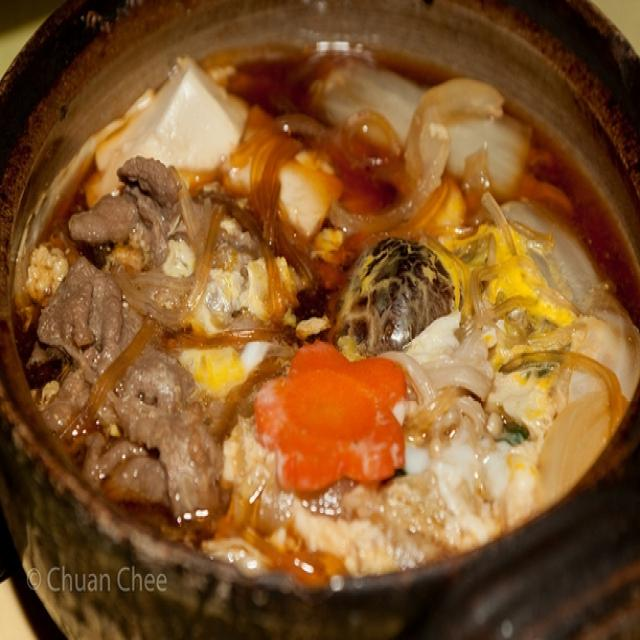汤锅炖物: (11, 13, 632, 607)
